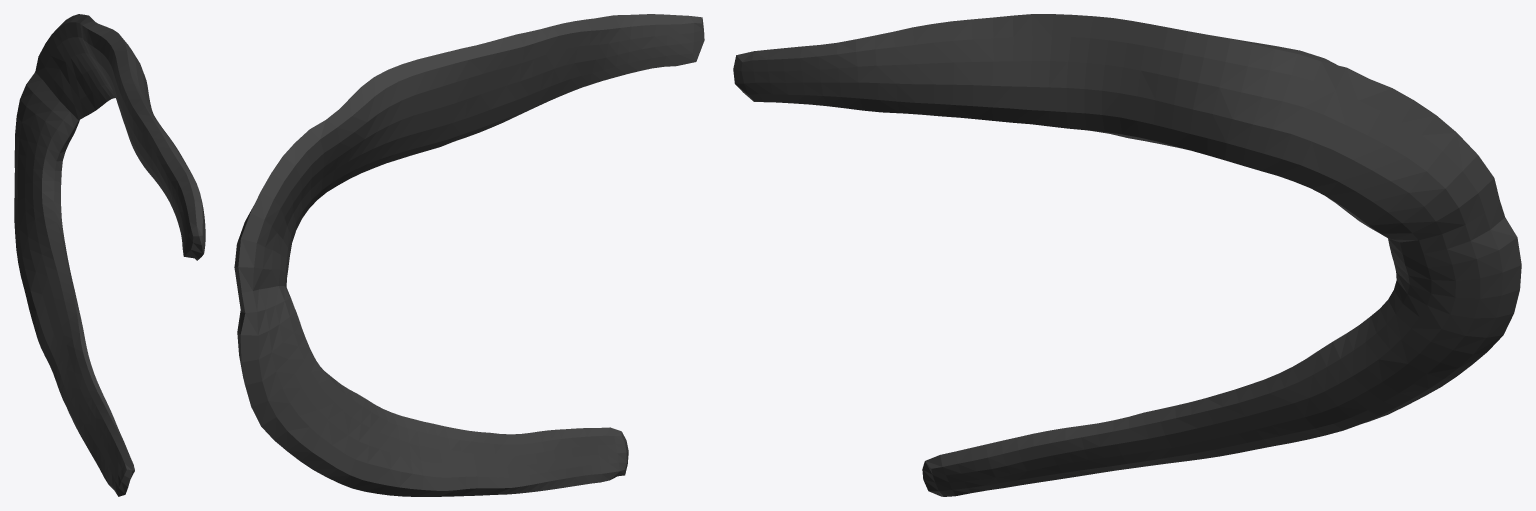
File: buccinator.glb
3 renders of one model, left to right at view 1: azimuth 30°, elevation 25°; view 2: azimuth 150°, elevation 25°; view 3: azimuth 270°, elevation 25°, orthographic. The views are drawn at different scales.
Parts seen in each view (by area): view 1: buccinator; view 2: buccinator; view 3: buccinator.
Boxes of the visible parts, x1=… form: buccinator: x1=14, y1=14, x2=205, y2=496; buccinator: x1=234, y1=14, x2=704, y2=496; buccinator: x1=733, y1=14, x2=1521, y2=496.
Bounding box in the file's own units: 0.3495 × 0.8625 × 1.16.
Materials: 1 (1 with a texture image).
